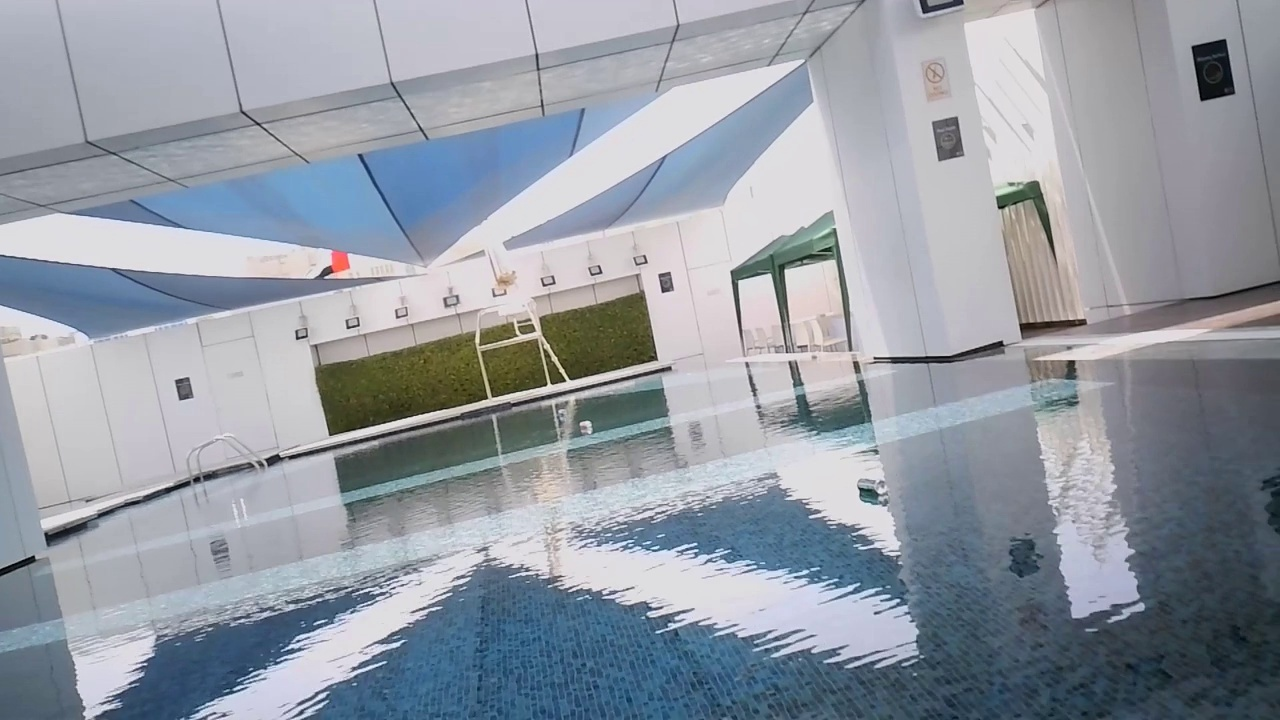debris: (1006, 532, 1038, 581), (854, 475, 892, 501), (575, 418, 596, 434), (555, 407, 569, 424), (808, 352, 820, 363)
